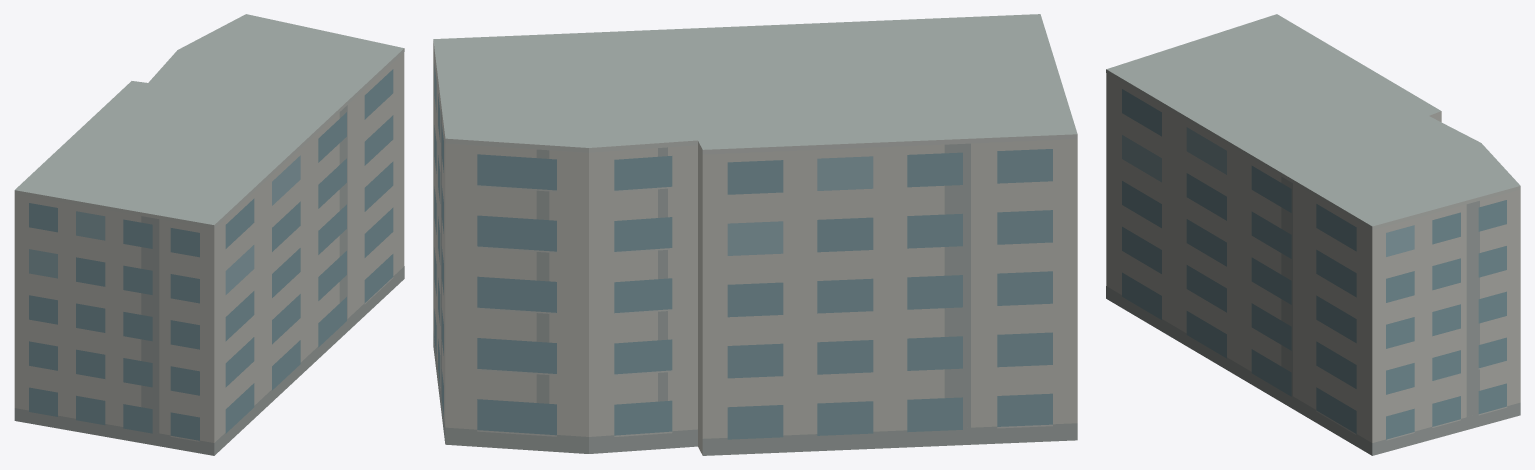
File: survey-upis-32905824.glb
The picture shows the model from 3 angles, left to right: view 1: azimuth 30°, elevation 25°; view 2: azimuth 150°, elevation 25°; view 3: azimuth 270°, elevation 25°; orthographic projection. The views are drawn at different scales.
Visible parts, largest first — view 1: survey-upis-32905824.tmp; view 2: survey-upis-32905824.tmp; view 3: survey-upis-32905824.tmp.
Part boxes in pixels (x1,y1,x2,y2): survey-upis-32905824.tmp: (14,14,404,455); survey-upis-32905824.tmp: (433,14,1077,455); survey-upis-32905824.tmp: (1106,14,1520,455).
Bounding box in the file's own units: 30.29 × 15.25 × 24.98.
